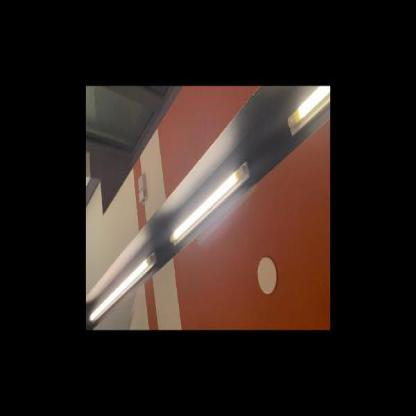light_on: (167, 148, 254, 252), (87, 242, 159, 325), (283, 85, 330, 143)
